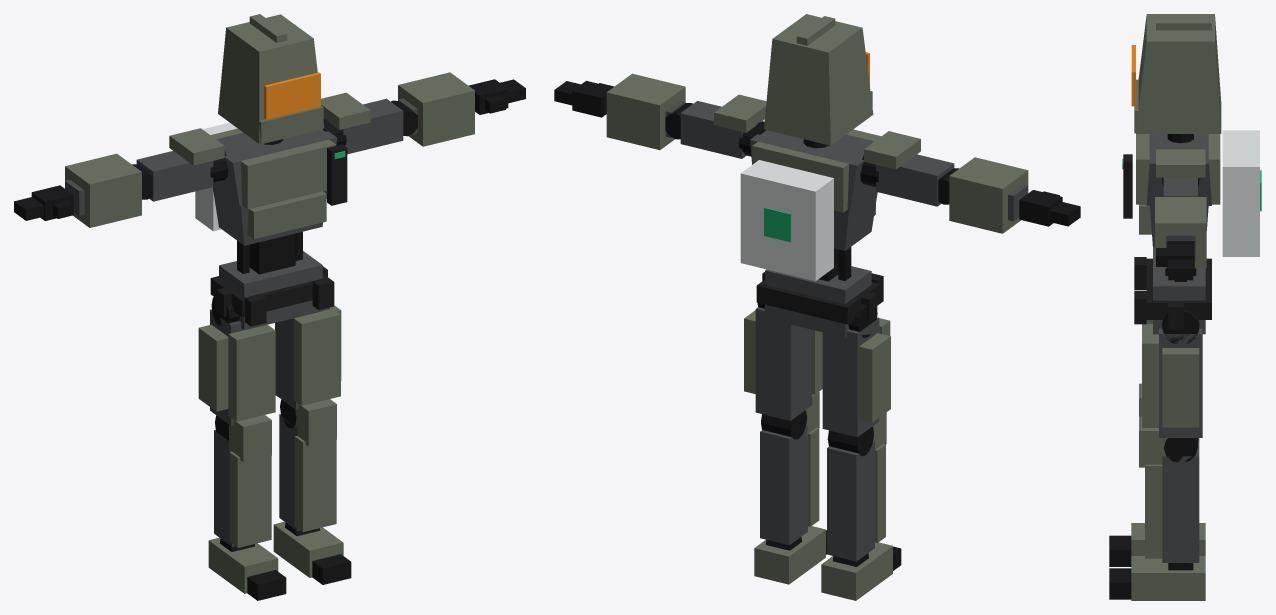
File: char_F1_medic.obj
The picture shows the model from 3 angles, left to right: view 1: azimuth 30°, elevation 25°; view 2: azimuth 150°, elevation 25°; view 3: azimuth 270°, elevation 25°; orthographic projection. The views are drawn at different scales.
Parts seen in each view (by area): view 1: Chassis, Shin_Plates, Thigh_Plates, ChassisJoints, Helmet_Combat, Bracers, Chest_Medium, Belt_Combat, Pauldrons_Light, Helmet_Combat_Visor, Strap_Medpens, Pack_Medic; view 2: Chassis, Helmet_Combat, Pack_Medic, Bracers, ChassisJoints, Shin_Plates, Thigh_Plates, Pauldrons_Light, Belt_Combat, Chest_Medium, Pack_Medic_Mark; view 3: Chassis, Helmet_Combat, Shin_Plates, Pack_Medic, Thigh_Plates, ChassisJoints, Belt_Combat, Bracers, Chest_Medium, Pauldrons_Light, Strap_Medpens, Helmet_Combat_Visor.
Part boxes in pixels (bbox=[...]): Chassis: bbox=[65, 98, 417, 546]; Shin_Plates: bbox=[208, 399, 343, 593]; Thigh_Plates: bbox=[198, 305, 341, 421]; ChassisJoints: bbox=[14, 79, 525, 600]; Helmet_Combat: bbox=[218, 14, 324, 144]; Bracers: bbox=[65, 72, 474, 227]; Chest_Medium: bbox=[210, 128, 335, 239]; Belt_Combat: bbox=[210, 266, 334, 326]; Pauldrons_Light: bbox=[169, 92, 370, 165]; Helmet_Combat_Visor: bbox=[264, 72, 320, 119]; Strap_Medpens: bbox=[327, 144, 347, 205]; Pack_Medic: bbox=[195, 122, 237, 231]; Chassis: bbox=[665, 100, 1028, 561]; Helmet_Combat: bbox=[764, 14, 873, 145]; Pack_Medic: bbox=[740, 160, 833, 281]; Bracers: bbox=[606, 73, 1028, 233]; ChassisJoints: bbox=[554, 80, 1080, 570]; Shin_Plates: bbox=[754, 391, 892, 600]; Thigh_Plates: bbox=[744, 310, 890, 422]; Pauldrons_Light: bbox=[714, 94, 920, 169]; Belt_Combat: bbox=[756, 272, 883, 324]; Chest_Medium: bbox=[752, 129, 880, 215]; Pack_Medic_Mark: bbox=[764, 207, 791, 242]; Chassis: bbox=[1146, 134, 1211, 562]; Helmet_Combat: bbox=[1134, 14, 1221, 133]; Shin_Plates: bbox=[1131, 383, 1205, 600]; Pack_Medic: bbox=[1222, 130, 1259, 256]; Thigh_Plates: bbox=[1142, 320, 1199, 427]; ChassisJoints: bbox=[1109, 134, 1199, 599]; Belt_Combat: bbox=[1134, 257, 1211, 329]; Bracers: bbox=[1155, 197, 1206, 268]; Chest_Medium: bbox=[1136, 134, 1220, 234]; Pauldrons_Light: bbox=[1156, 149, 1205, 177]; Strap_Medpens: bbox=[1123, 154, 1132, 218]; Helmet_Combat_Visor: bbox=[1131, 45, 1135, 106].
Size of the model in its own units: 1.92 by 1.98 by 0.49.
